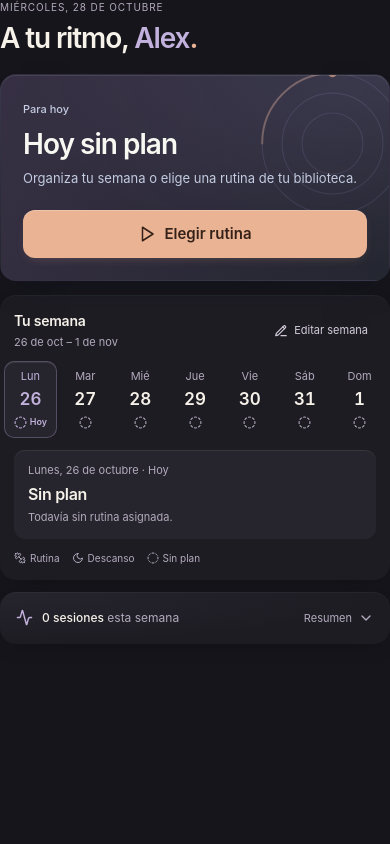
Scenario: dashboard training priority › uses the correct session and day units for 0
Click the button with aria-label "Resumen de actividad". click: (73, 617)
box: [0,592,389,644]
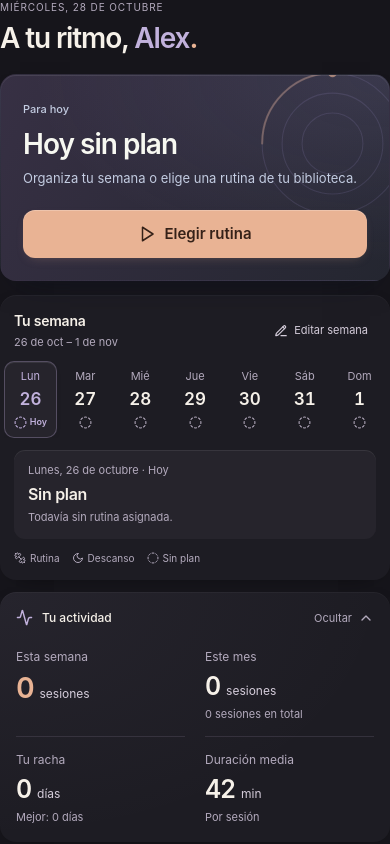
Expected: the text "sesiones" below "Este mes" is shown, [226,683,276,698]
Expected: the text "días" is shown, [37,785,60,803]
